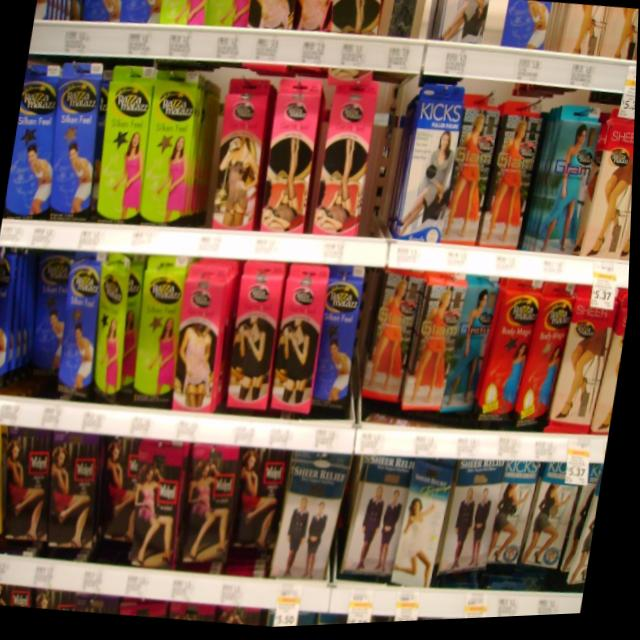q67: (171, 257, 244, 416)
